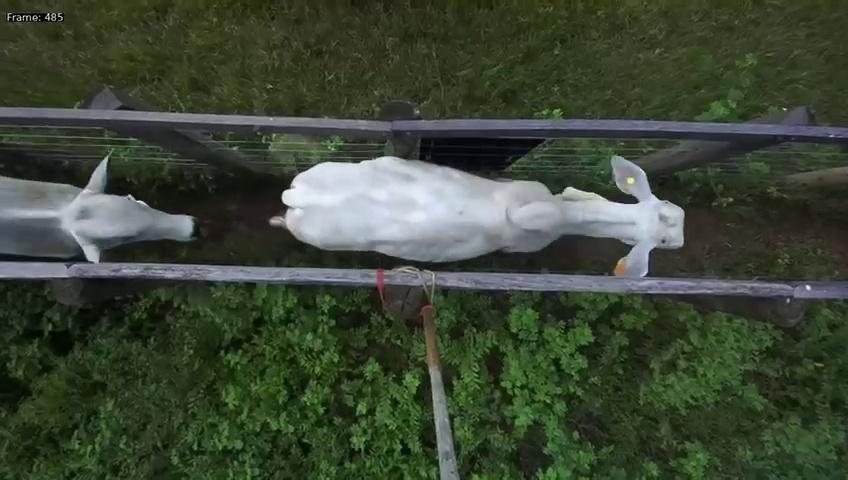cattle: (260, 139, 686, 276)
